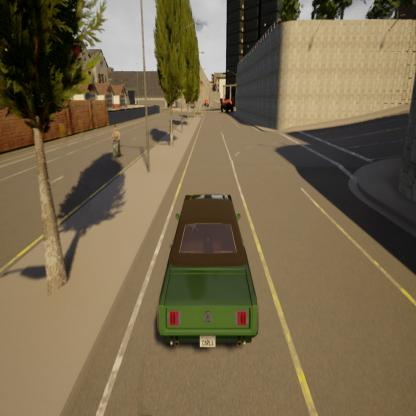Cars: (151, 183, 265, 363), (220, 96, 236, 115)
